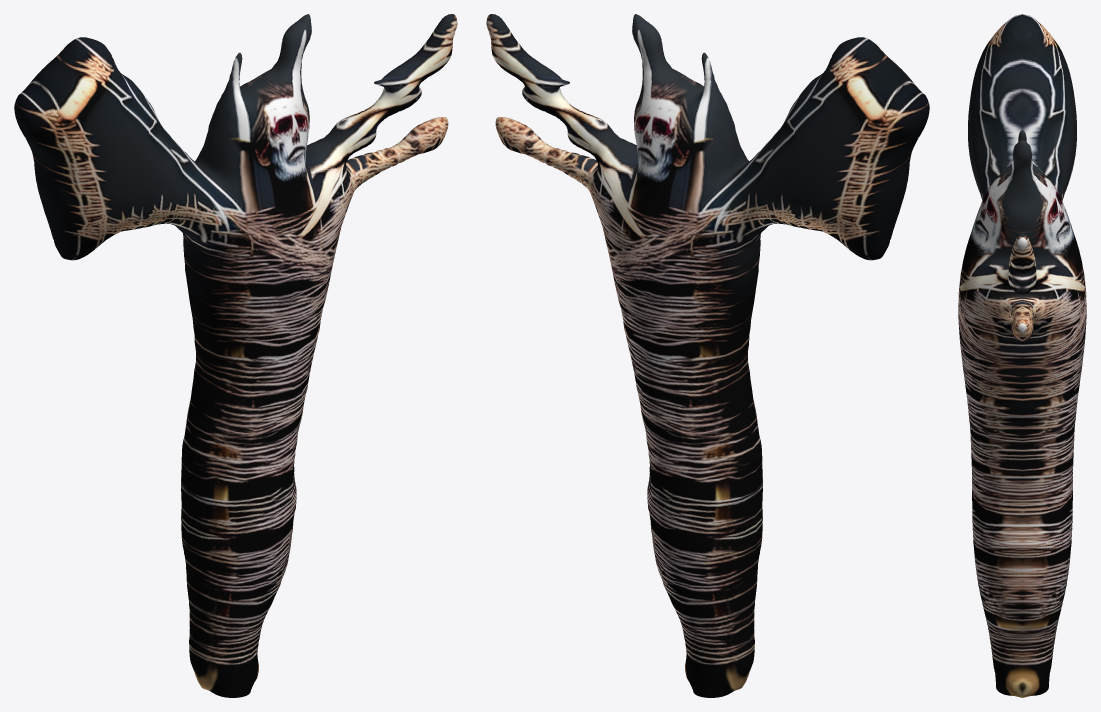
Rendered from deadbody5.glb.
3 renders of one model, left to right at view 1: azimuth 30°, elevation 25°; view 2: azimuth 150°, elevation 25°; view 3: azimuth 270°, elevation 25°, orthographic. The views are drawn at different scales.
Size of the model in its own units: 5.44 by 8.09 by 1.54.
1 material, 1 textured.
